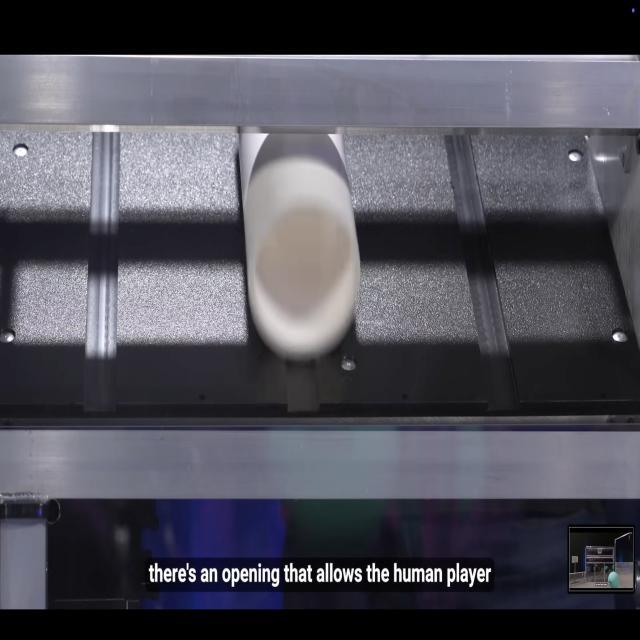coral: (234, 124, 374, 366)
